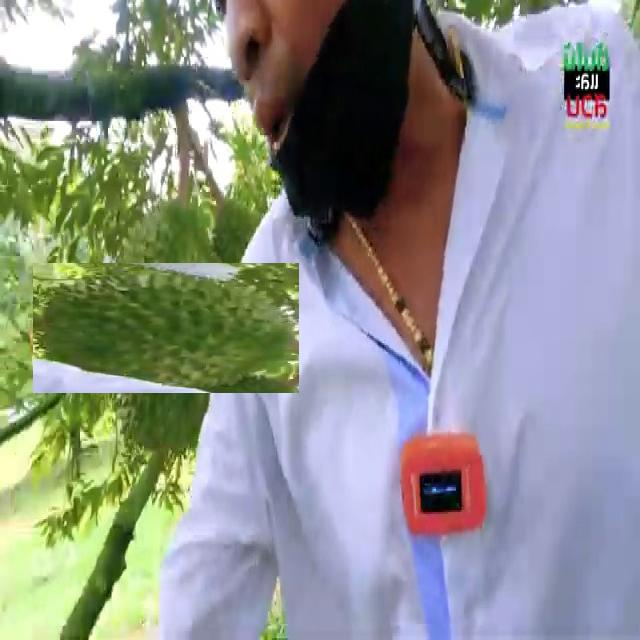durian: (66, 229, 265, 427)
